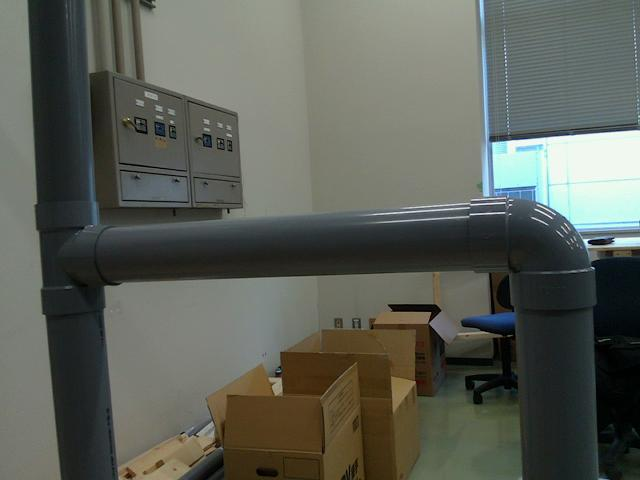bent: (465, 195, 598, 314)
junction: (31, 198, 120, 320)
